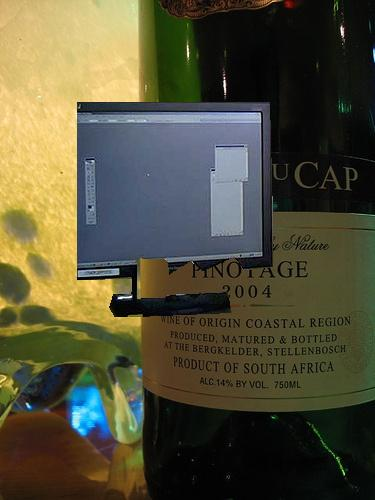tampered: (78, 103, 273, 317)
